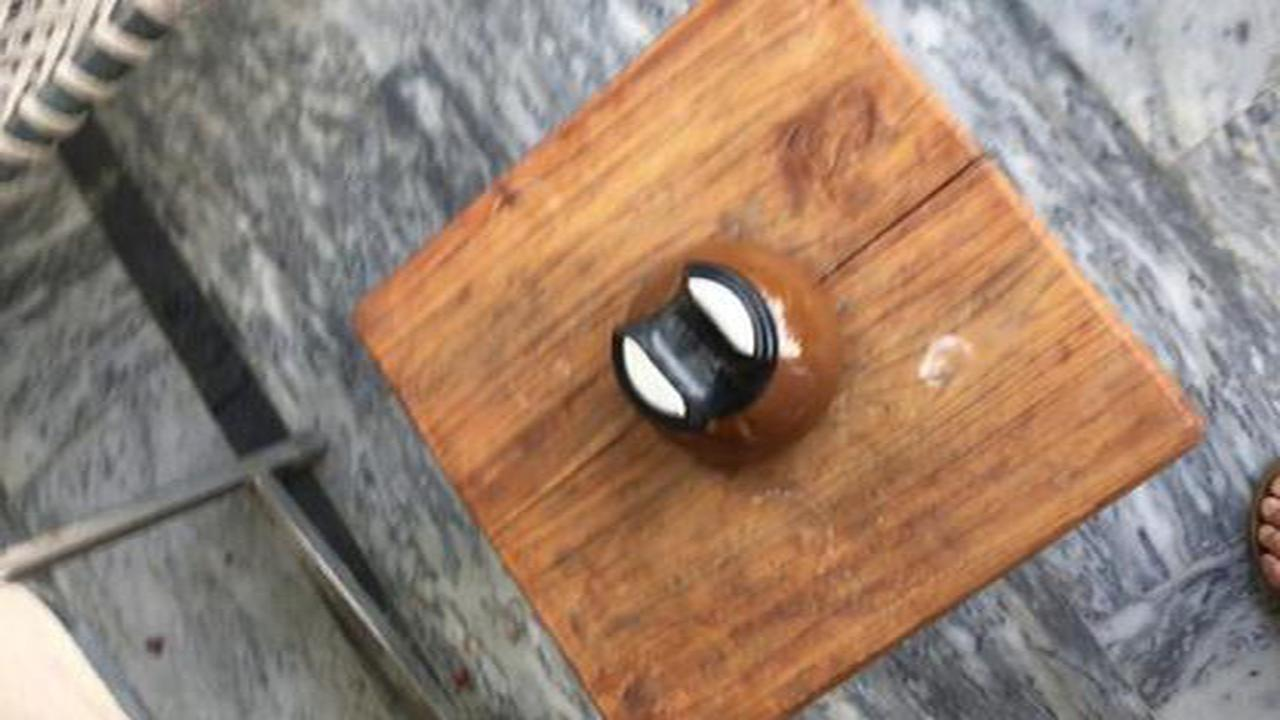insulator_pin: (594, 233, 871, 485)
